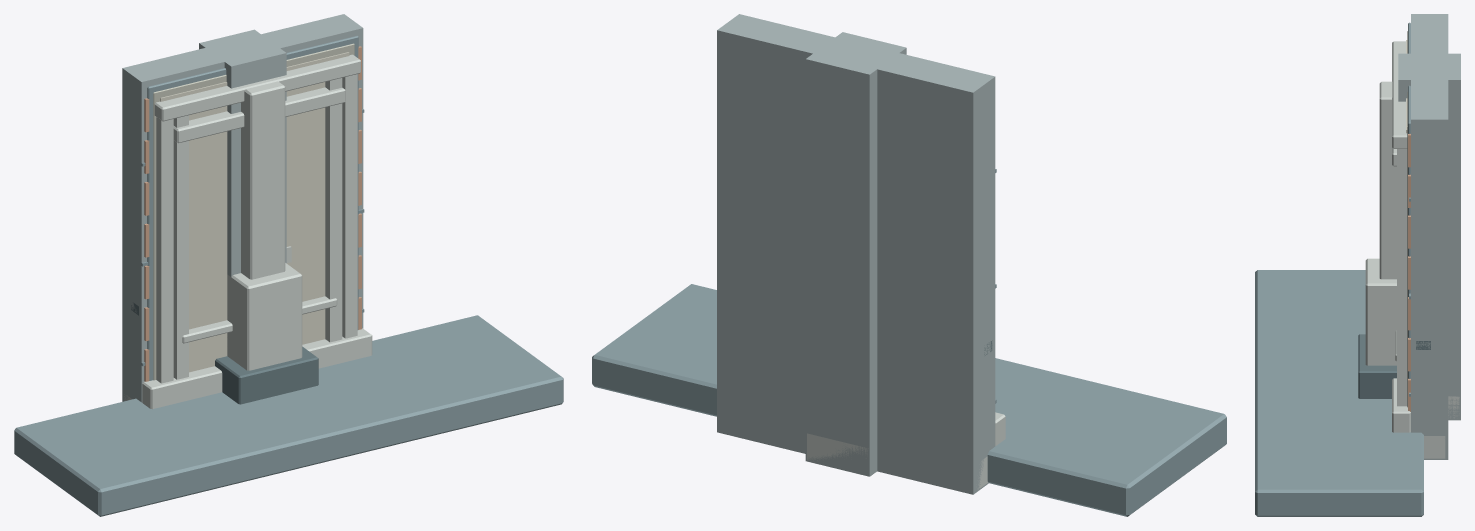
Rendered from kit.glb.
The picture shows the model from 3 angles, left to right: view 1: azimuth 30°, elevation 25°; view 2: azimuth 150°, elevation 25°; view 3: azimuth 270°, elevation 25°; orthographic projection. The views are drawn at different scales.
Parts seen in each view (by area): view 1: long canopy slab.002, panel inset, column.002, wall jamb.040, stone foot.002, decorative jamb.016, corner closure.007, decorative jamb.015, decorative jamb.017, sign.002, wall jamb.036, ac.002 (+15 smaller); view 2: closed wall.006, long canopy slab.002, corner closure.007, closed wall.007, wall jamb.040, wall jamb.037, wall jamb.036, wall jamb.041, wall above opening.020, canopy slab.002, wall above opening.018, wall below opening.017 (+2 smaller); view 3: long canopy slab.002, wall jamb.037, wall jamb.041, canopy slab.002, corner closure.007, column.002, wall above opening.020, stone foot.002, decorative jamb.017, ac.002, raised lintel.008, sign.002 (+7 smaller).
Boxes of the visible parts, x1,y1,x2,y2 form: long canopy slab.002: [14, 315, 563, 516]; panel inset: [160, 52, 349, 372]; column.002: [241, 81, 285, 279]; wall jamb.040: [122, 61, 167, 402]; stone foot.002: [227, 263, 302, 370]; decorative jamb.016: [156, 117, 173, 383]; corner closure.007: [199, 29, 286, 337]; decorative jamb.015: [325, 78, 342, 342]; decorative jamb.017: [342, 74, 357, 338]; sign.002: [142, 328, 372, 409]; wall jamb.036: [122, 62, 182, 401]; ac.002: [215, 346, 318, 404]; closed wall.006: [717, 15, 988, 493]; long canopy slab.002: [592, 284, 1226, 516]; corner closure.007: [805, 32, 906, 476]; closed wall.007: [781, 46, 916, 478]; wall jamb.040: [942, 69, 995, 493]; wall jamb.037: [717, 14, 769, 443]; wall jamb.036: [924, 66, 993, 494]; wall jamb.041: [717, 14, 769, 438]; wall above opening.020: [747, 21, 963, 131]; canopy slab.002: [987, 358, 1095, 469]; wall above opening.018: [765, 27, 946, 126]; wall below opening.017: [748, 401, 942, 486]; long canopy slab.002: [1255, 270, 1423, 516]; wall jamb.037: [1411, 107, 1448, 455]; wall jamb.041: [1411, 107, 1448, 459]; canopy slab.002: [1255, 322, 1423, 438]; corner closure.007: [1398, 53, 1460, 420]; column.002: [1379, 81, 1396, 279]; wall above opening.020: [1411, 26, 1448, 106]; stone foot.002: [1365, 258, 1396, 365]; decorative jamb.017: [1397, 149, 1407, 406]; ac.002: [1358, 334, 1396, 398]; raised lintel.008: [1392, 41, 1407, 148]; sign.002: [1392, 378, 1410, 432].
Bounding box in the file's own units: 4.2 × 3 × 1.65.
